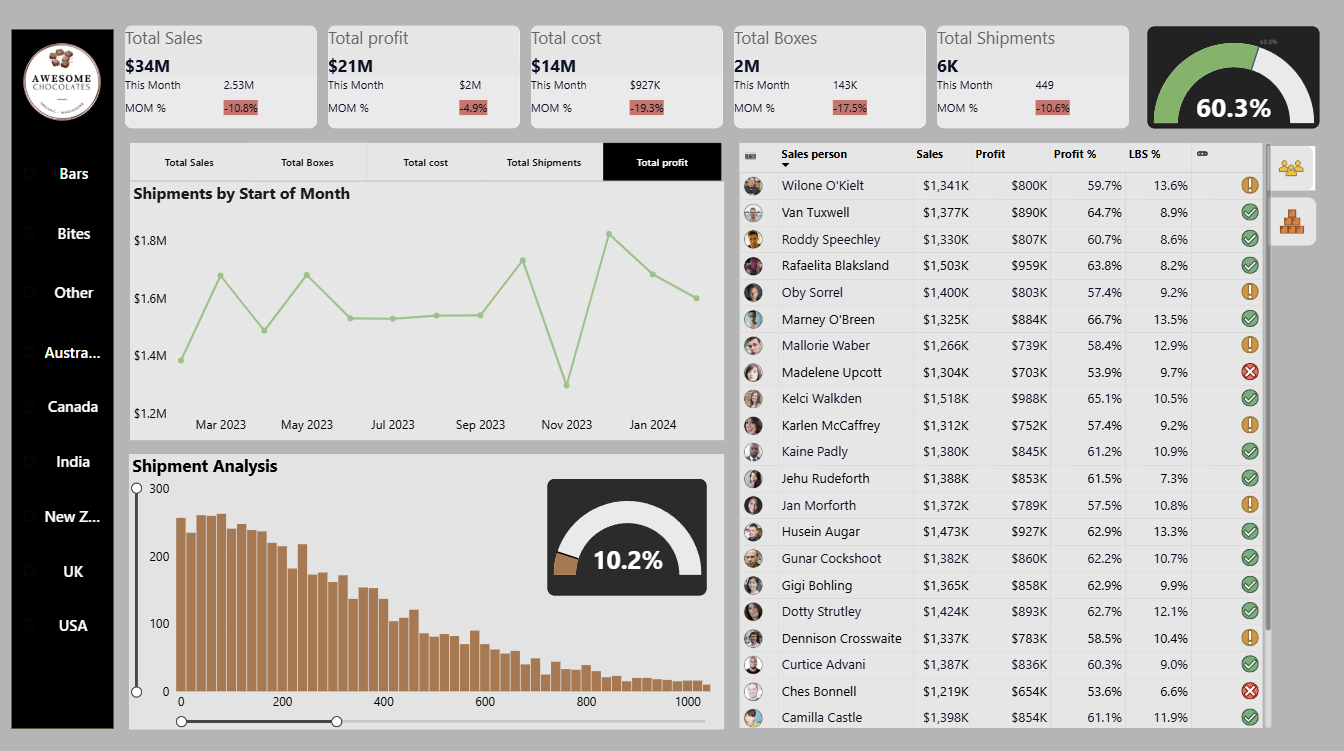

What the dashboard file says about the page in this screenshot:
{"tool":"powerbi","page":{"name":"Sales Report","canvas":[1920,1080],"ordinal":0},"visuals":[{"type":"shape","box":[16.7,43.3,146.7,1000],"z":0},{"type":"cardVisual","fields":{"Data":["_Measures.Total Sales","_Measures.Total profit","_Measures.Total cost","_Measures.Total Boxes","_Measures.Total Shipments"]},"box":[178.8,18.2,1436.4,187.9],"z":1000},{"type":"gauge","fields":{"Y":["_Measures.Profit %"]},"box":[1639.4,39.4,245.5,145.5],"z":2000},{"type":"image","box":[29.4,52.9,120.6,129.4],"z":3000},{"type":"lineChart","title":"Shipments by Start of Month","fields":{"Y":["_Measures.Total Boxes"],"Category":["calendar.Start of Month"]},"box":[184.8,260.6,848.5,369.7],"z":4000},{"type":"advancedSlicerVisual","fields":{"Values":["Measures Selector.Measures Selector"]},"box":[184.9,205.7,849.1,54.7],"z":5000},{"type":"clusteredColumnChart","title":"Shipment Analysis","fields":{"Y":["_Measures.Total Shipments"],"Category":["shipments.Boxes (bins)"]},"box":[183.3,650,850,393.3],"z":6000},{"type":"gauge","fields":{"Y":["_Measures.LBS %"]},"box":[781.8,684.8,227.3,166.7],"z":7000},{"type":"image","title":"People Icon","box":[1806.1,206.1,78.8,72.7],"z":8000},{"type":"image","title":"Product Icon","box":[1793.9,278.8,103,78.8],"z":9000},{"type":"tableEx","title":"People Detail","fields":{"Values":["people.Picture","people.Sales person","_Measures.Total Sales","_Measures.Total profit","_Measures.Profit %","_Measures.LBS %","_Measures.Profit Target Indicator"]},"box":[1054.5,206.1,760.6,836.4],"z":10000},{"type":"advancedSlicerVisual","fields":{"Values":["locations.Geo"]},"box":[20.7,463.8,134.5,475.9],"z":12000},{"type":"advancedSlicerVisual","fields":{"Values":["products.Category"]},"box":[20.7,205.2,136.2,258.6],"z":13000}]}

Visuals, with their boxes in screenshot pixels (x1, y1, x2, y2), scaled from the page's 1920x1080 canvas onto the 1344x751 screenshot:
shape: [left=12, top=30, right=114, bottom=725]
cardVisual - _Measures.Total Sales x _Measures.Total profit: [left=125, top=13, right=1131, bottom=143]
gauge - _Measures.Profit %: [left=1148, top=27, right=1319, bottom=129]
image: [left=21, top=37, right=105, bottom=127]
"Shipments by Start of Month" lineChart: [left=129, top=181, right=723, bottom=438]
advancedSlicerVisual - Measures Selector.Measures Selector: [left=129, top=143, right=724, bottom=181]
"Shipment Analysis" clusteredColumnChart: [left=128, top=452, right=723, bottom=725]
gauge - _Measures.LBS %: [left=547, top=476, right=706, bottom=592]
"People Icon" image: [left=1264, top=143, right=1319, bottom=194]
"Product Icon" image: [left=1256, top=194, right=1328, bottom=249]
"People Detail" tableEx: [left=738, top=143, right=1271, bottom=725]
advancedSlicerVisual - locations.Geo: [left=14, top=323, right=109, bottom=653]
advancedSlicerVisual - products.Category: [left=14, top=143, right=110, bottom=323]
